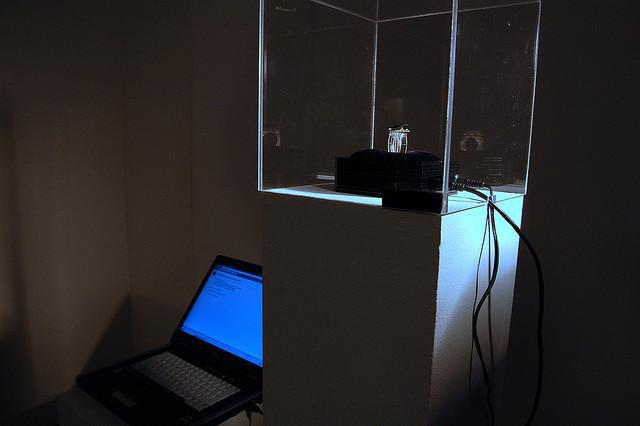tv: (169, 247, 269, 388)
